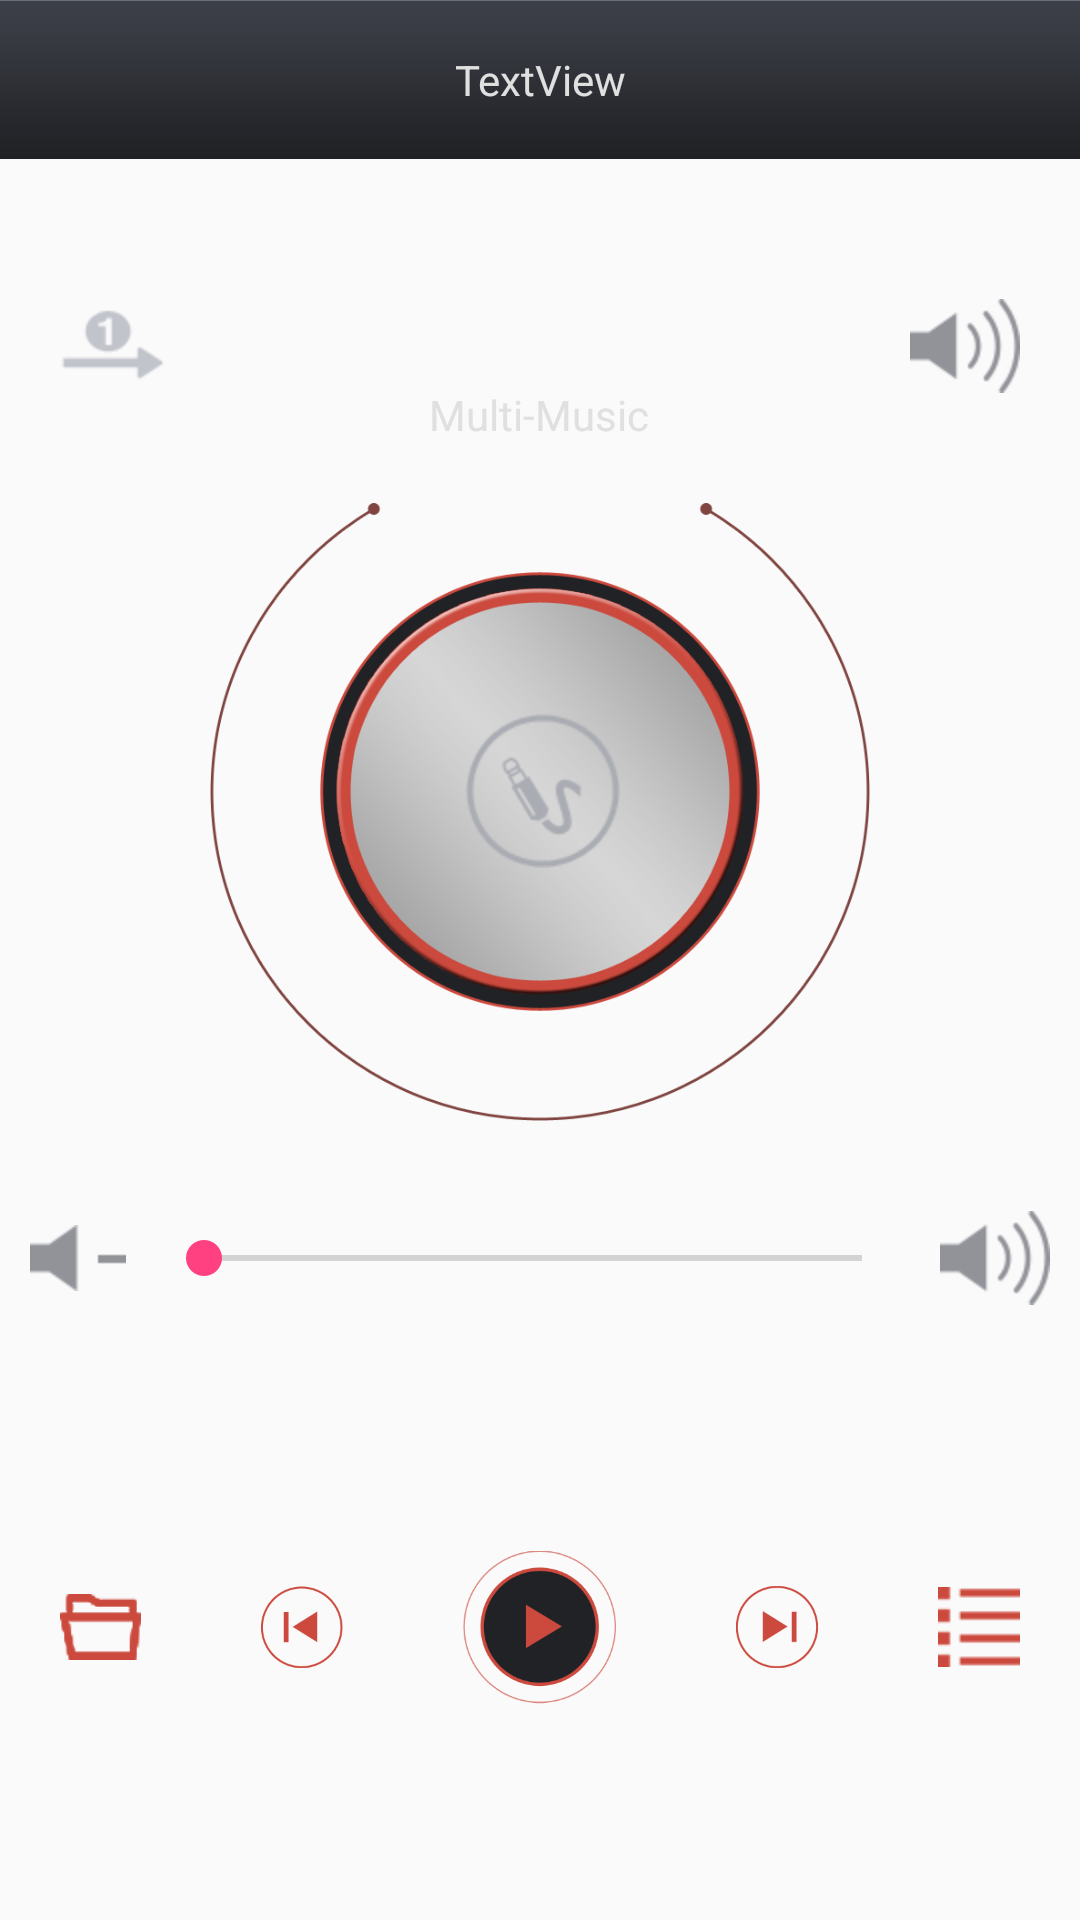

Named icons in this screenshot (1080 x 1920) and their bounding boxes, (x1, y1, x2, y2):
playbar playlist: (938, 1587, 1020, 1667)
player next: (736, 1586, 818, 1668)
player play: (463, 1551, 616, 1704)
player previous: (261, 1586, 343, 1668)
playlist folder: (60, 1594, 141, 1660)
playmode one only: (63, 311, 162, 378)
source aux: (423, 671, 663, 911)
volume: (910, 299, 1020, 393), (940, 1211, 1050, 1305), (30, 1225, 126, 1291)
